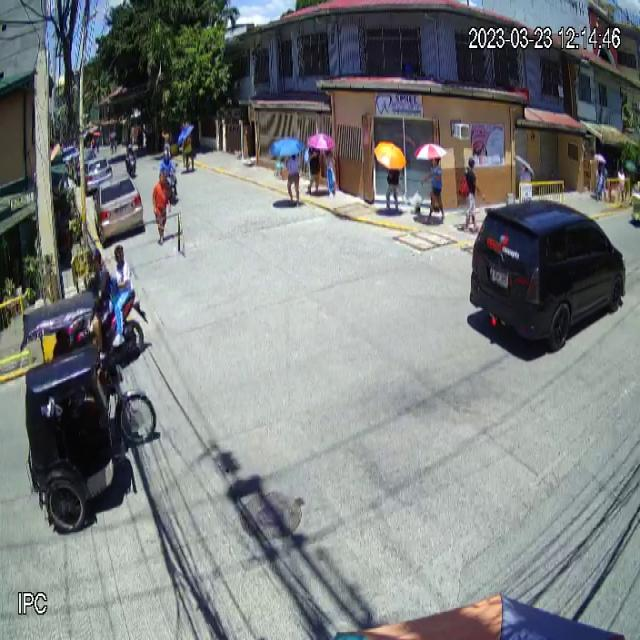Car: (469, 198, 626, 351), (92, 172, 143, 245)
Tricycle: (21, 291, 157, 533)
